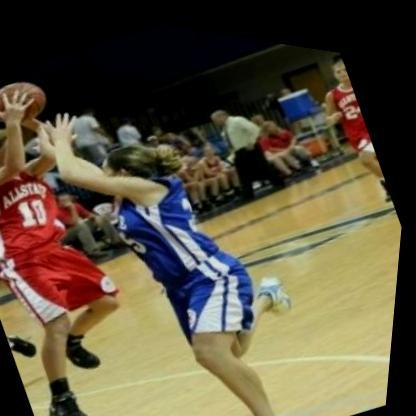basketball: (0, 62, 63, 138)
